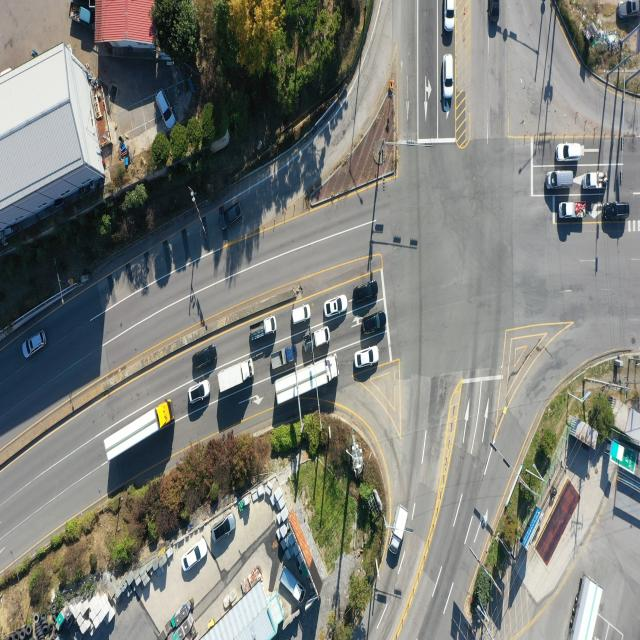car: (182, 537, 207, 573), (154, 87, 173, 128), (602, 200, 630, 225), (23, 332, 46, 362), (212, 517, 235, 545), (546, 170, 576, 190), (361, 313, 386, 337), (194, 343, 217, 369), (220, 204, 242, 231), (190, 377, 212, 403), (354, 346, 379, 368), (353, 282, 378, 304), (324, 296, 346, 319), (556, 143, 581, 162), (444, 54, 454, 98), (290, 305, 310, 326), (618, 0, 640, 19), (446, 0, 456, 32), (490, 0, 501, 25)
medium_truck: (103, 399, 172, 464), (272, 352, 338, 405), (567, 577, 601, 640), (218, 358, 255, 395)
small_truck: (278, 566, 306, 605), (388, 508, 406, 554), (302, 327, 329, 354), (252, 318, 278, 345), (271, 345, 298, 370), (68, 0, 92, 28), (558, 202, 586, 222), (583, 171, 607, 191)
